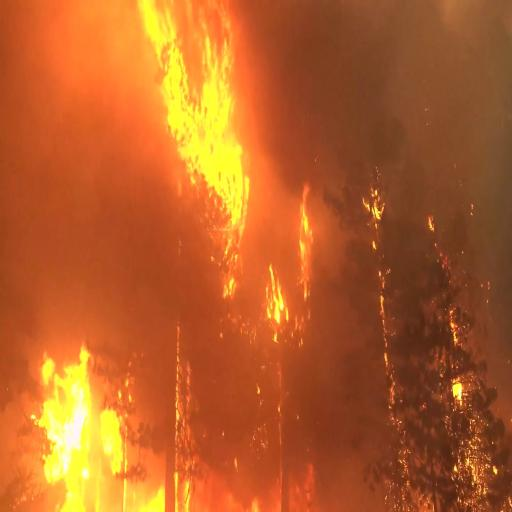fire: (143, 3, 249, 209), (30, 333, 123, 512)
